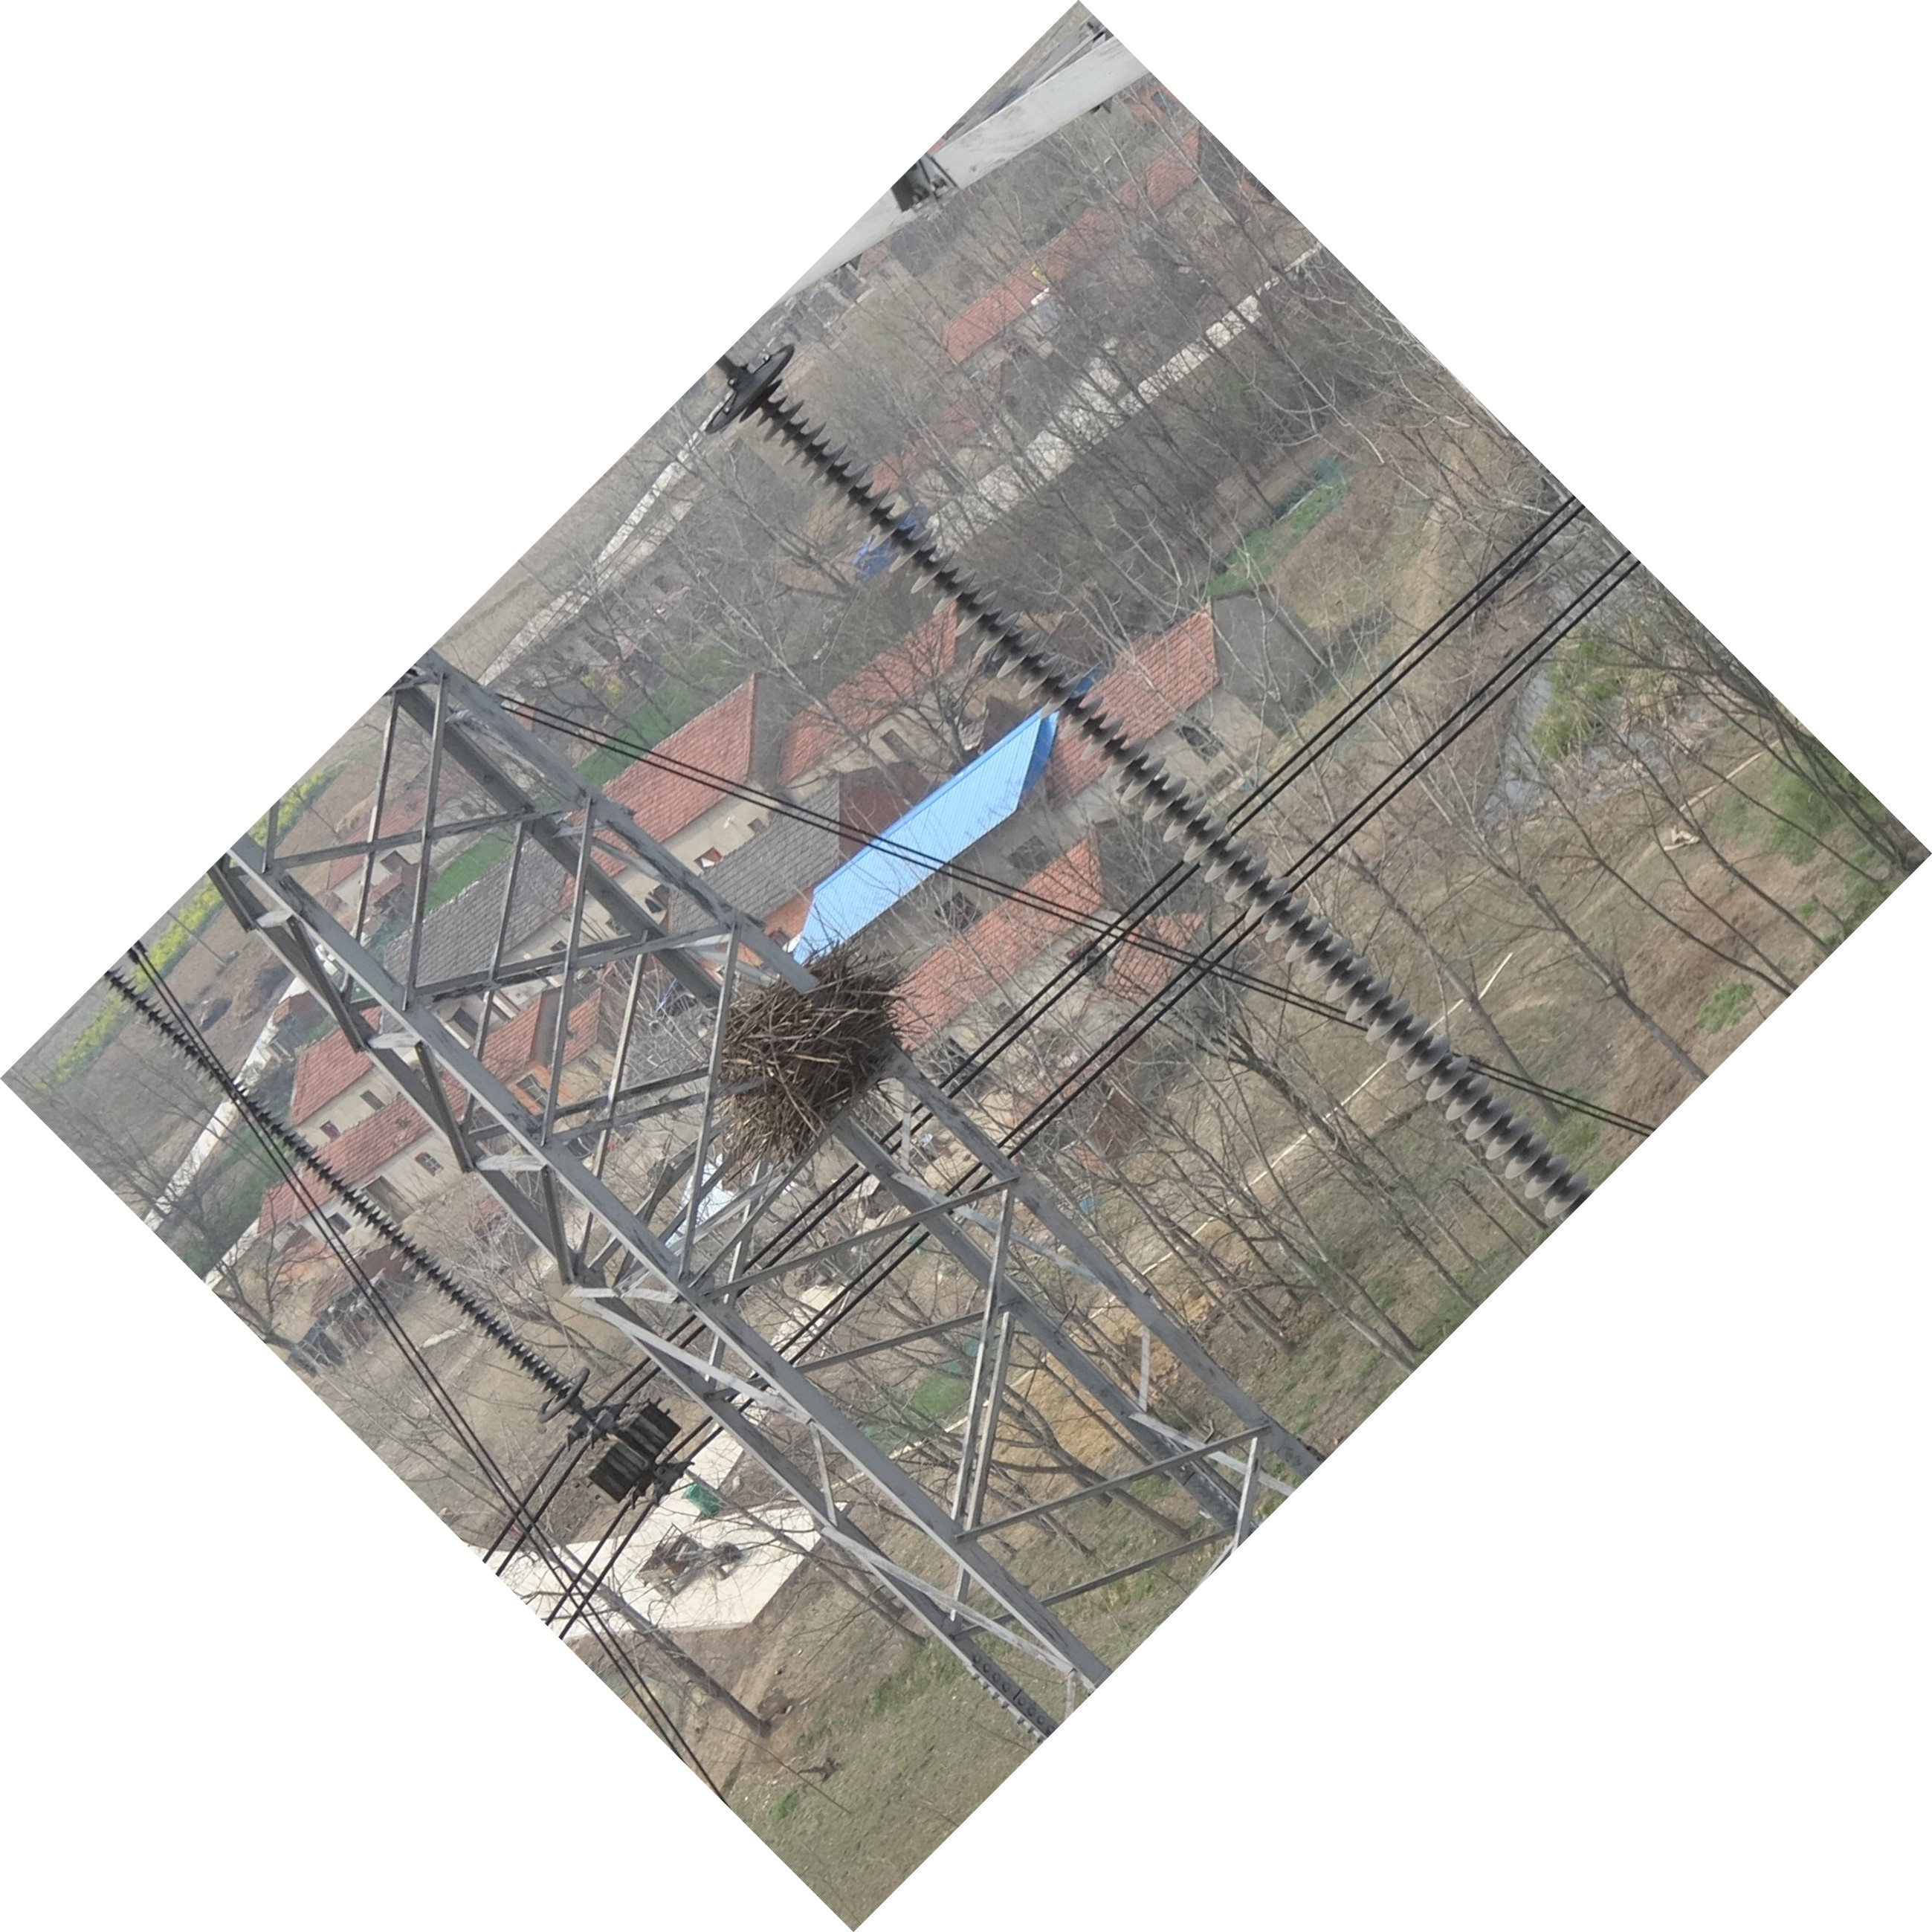niaowo: (694, 936, 936, 1164)
